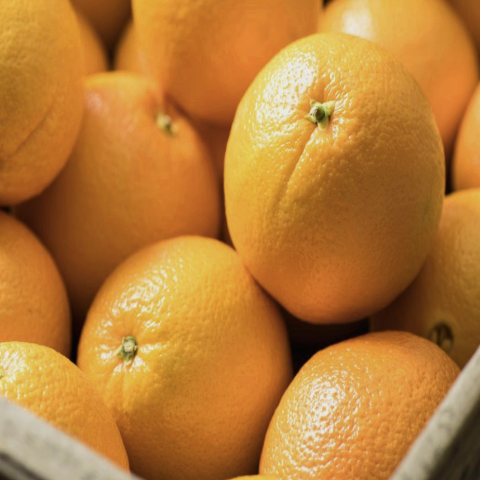orange: (211, 7, 453, 335), (62, 207, 303, 479)
